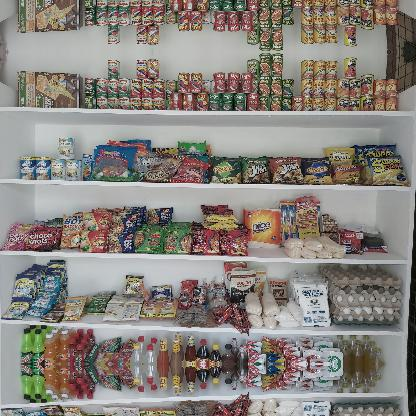Koko-Krunch: (18, 70, 82, 107), (17, 0, 83, 34)
